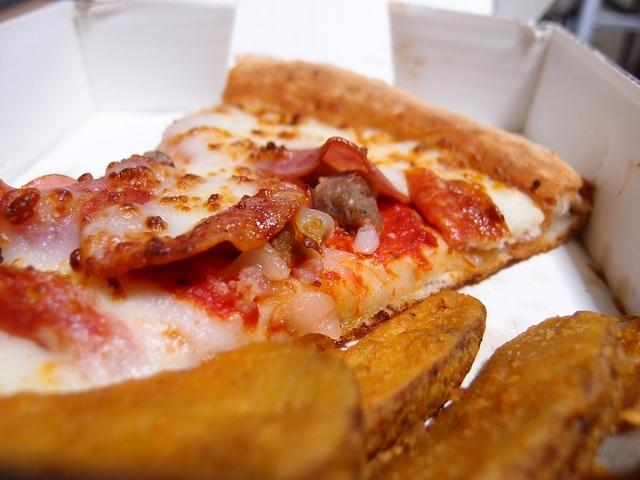potato: (0, 341, 364, 480), (369, 311, 640, 480), (324, 290, 487, 464)
